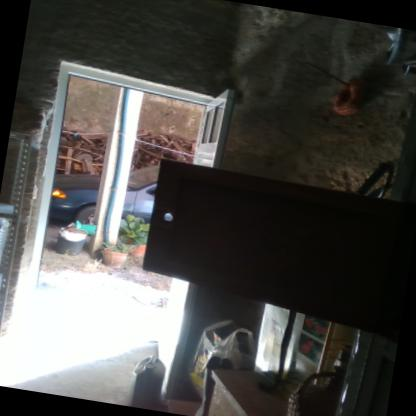open: (0, 48, 248, 412)
